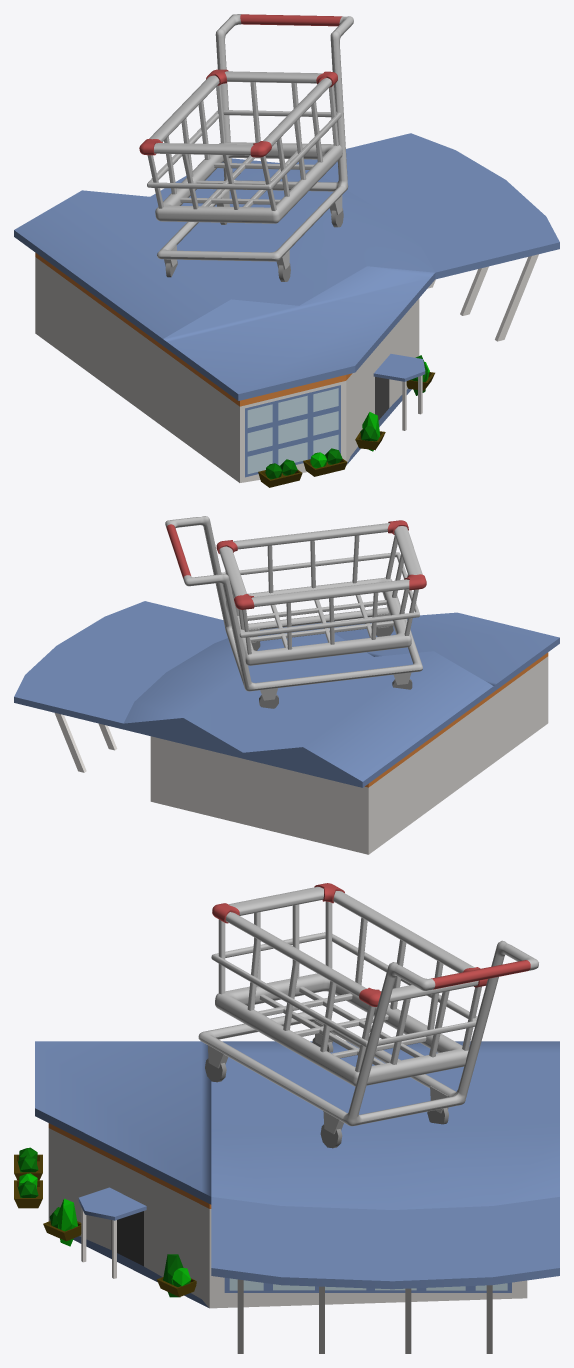
File: Supermarket.fbx
3 views of the same model, one above another, from view 1: azimuth 30°, elevation 25°; view 2: azimuth 150°, elevation 25°; view 3: azimuth 270°, elevation 25° (orthographic). The views are drawn at different scales.
Visible parts, largest first — view 1: SuperMarket_Combined1; view 2: SuperMarket_Combined1; view 3: SuperMarket_Combined1.
Part boxes in pixels (box(x1,y1,x2,y2)): SuperMarket_Combined1: box(14, 14, 559, 487); SuperMarket_Combined1: box(14, 516, 559, 854); SuperMarket_Combined1: box(14, 883, 559, 1353).
Bounding box in the file's own units: 143 × 95.07 × 137.
